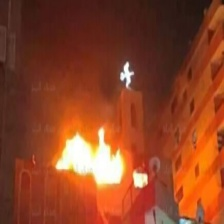fire: (58, 131, 125, 185)
